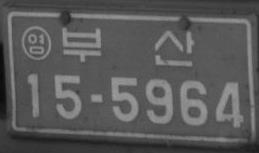1: (21, 71, 49, 118), (87, 92, 107, 104)
4: (215, 80, 243, 127)
5: (110, 75, 139, 122), (54, 73, 82, 119)
6: (179, 79, 208, 126)
9: (144, 77, 174, 124)
부산_D: (61, 26, 195, 67)
영: (21, 24, 51, 61)
